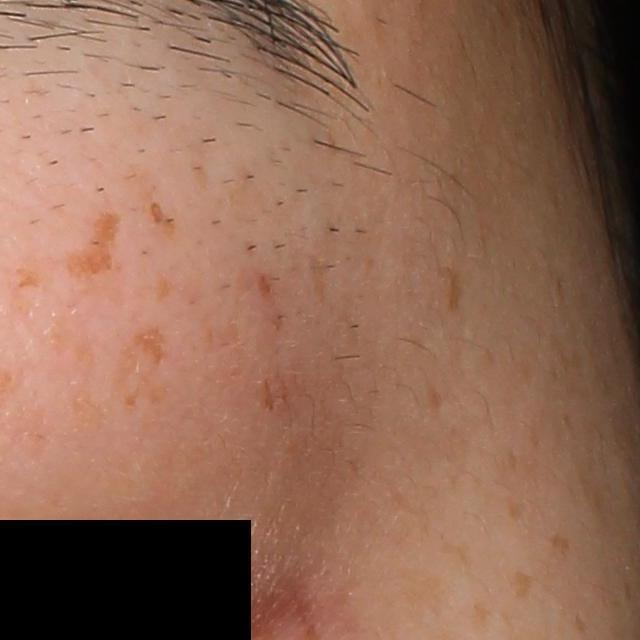melasma: (66, 213, 120, 273), (136, 330, 164, 363)
